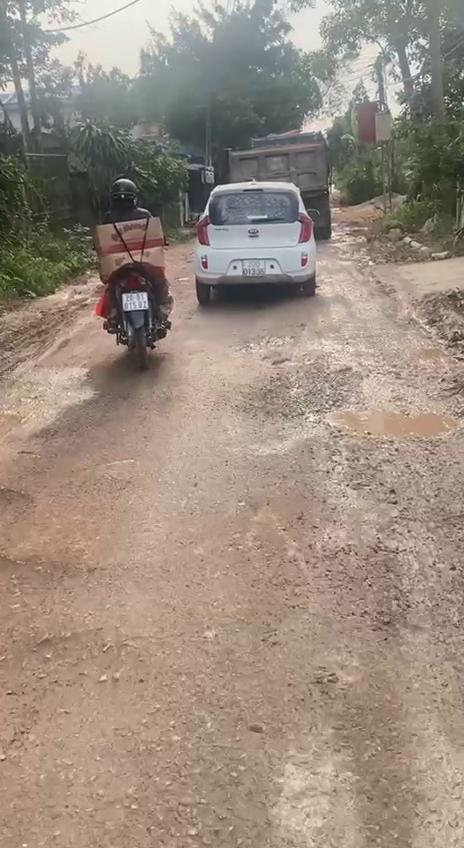pothole: (262, 364, 462, 449), (0, 617, 142, 704), (0, 549, 110, 614), (0, 483, 47, 525)
